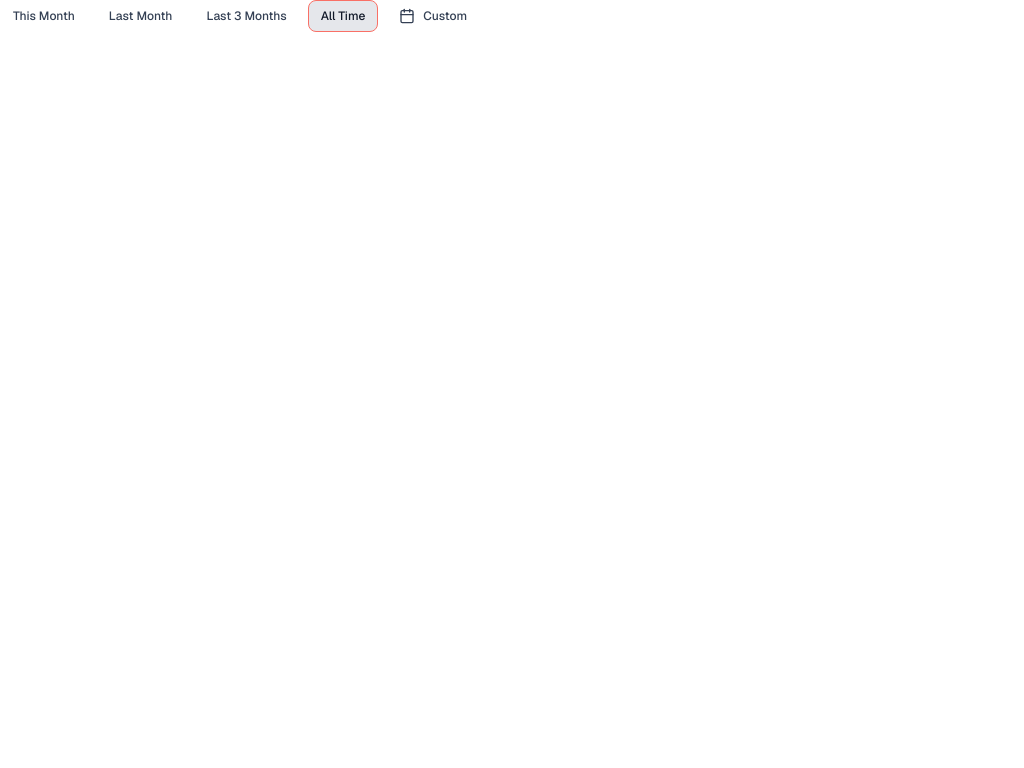
TimeFilter › Custom Date Range Picker › should open date picker when custom range is clicked
Step 1. Click the button "Custom" → {"x": 433, "y": 16}, box [386,0,480,32]
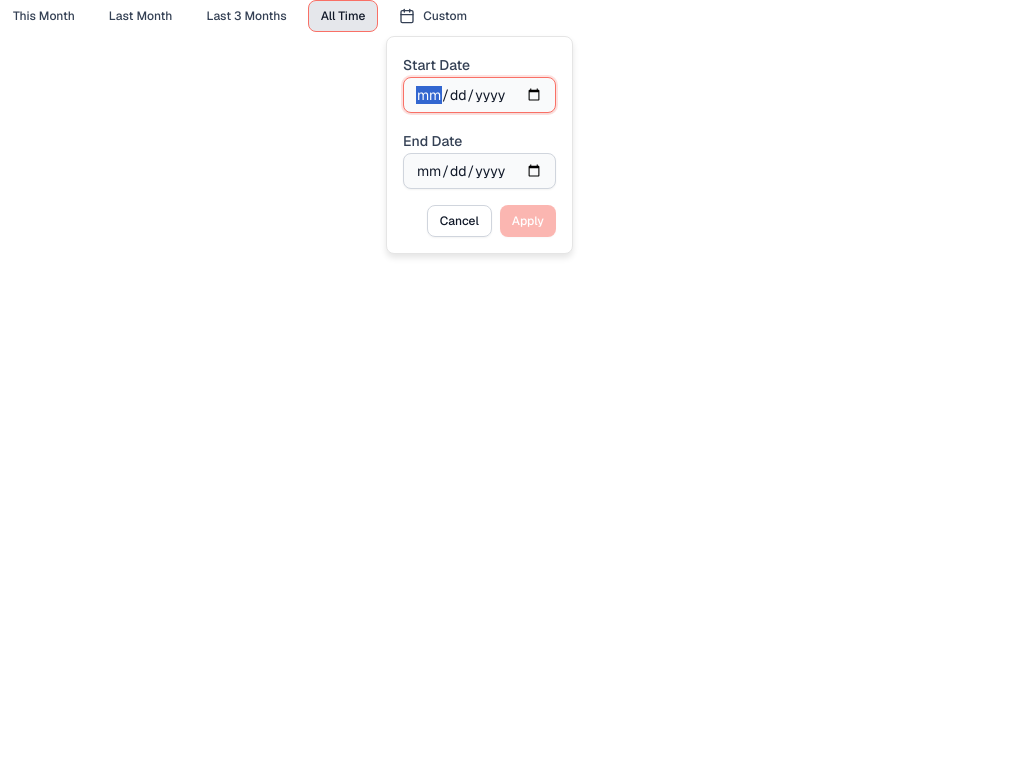
Check: the dialog is shown, box [386,36,573,254]
